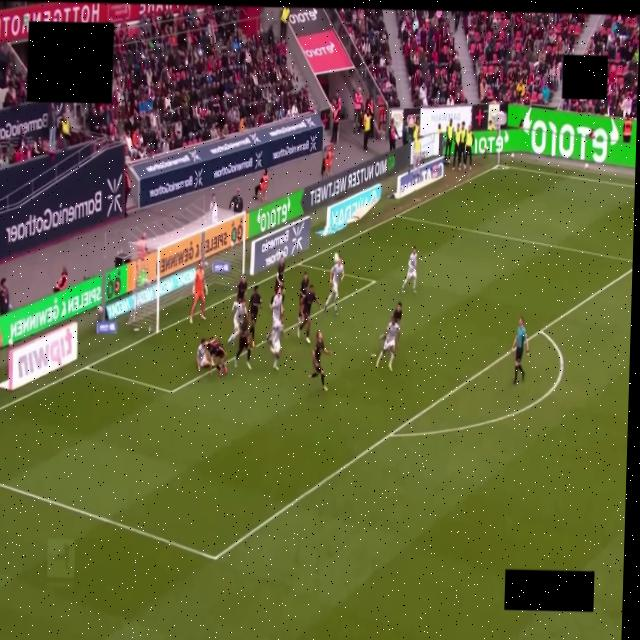ball: (334, 252, 340, 263)
player: (297, 285, 320, 343), (375, 316, 399, 370), (309, 332, 329, 391), (323, 258, 343, 315), (190, 261, 207, 323), (267, 318, 283, 370), (227, 301, 246, 344), (234, 318, 250, 369), (205, 337, 226, 375), (248, 286, 260, 347), (402, 247, 417, 292), (298, 272, 309, 322), (196, 339, 211, 371), (270, 287, 282, 325), (276, 257, 284, 299), (236, 276, 247, 301), (393, 302, 401, 326), (393, 302, 401, 325)
referee: (512, 318, 528, 385)
